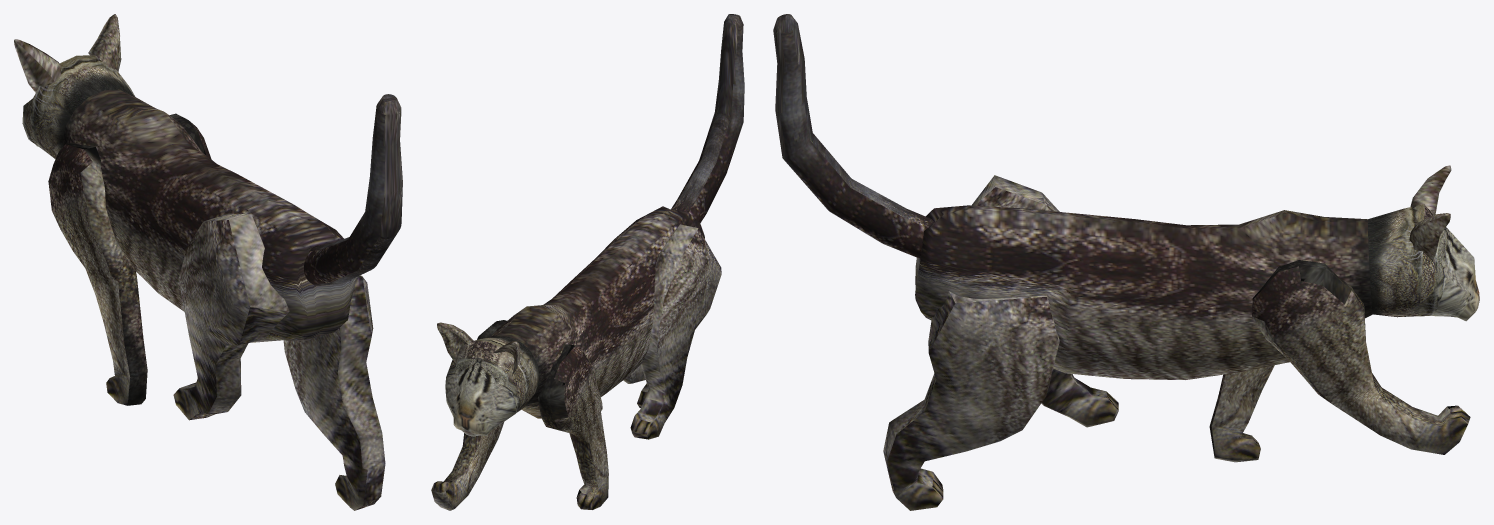
The model's file is purry_1.obj.
3 views of the same model, side by side, from view 1: azimuth 30°, elevation 25°; view 2: azimuth 150°, elevation 25°; view 3: azimuth 270°, elevation 25° (orthographic). The views are drawn at different scales.
Bounding box in the file's own units: 2.1 × 6.78 × 9.16.
